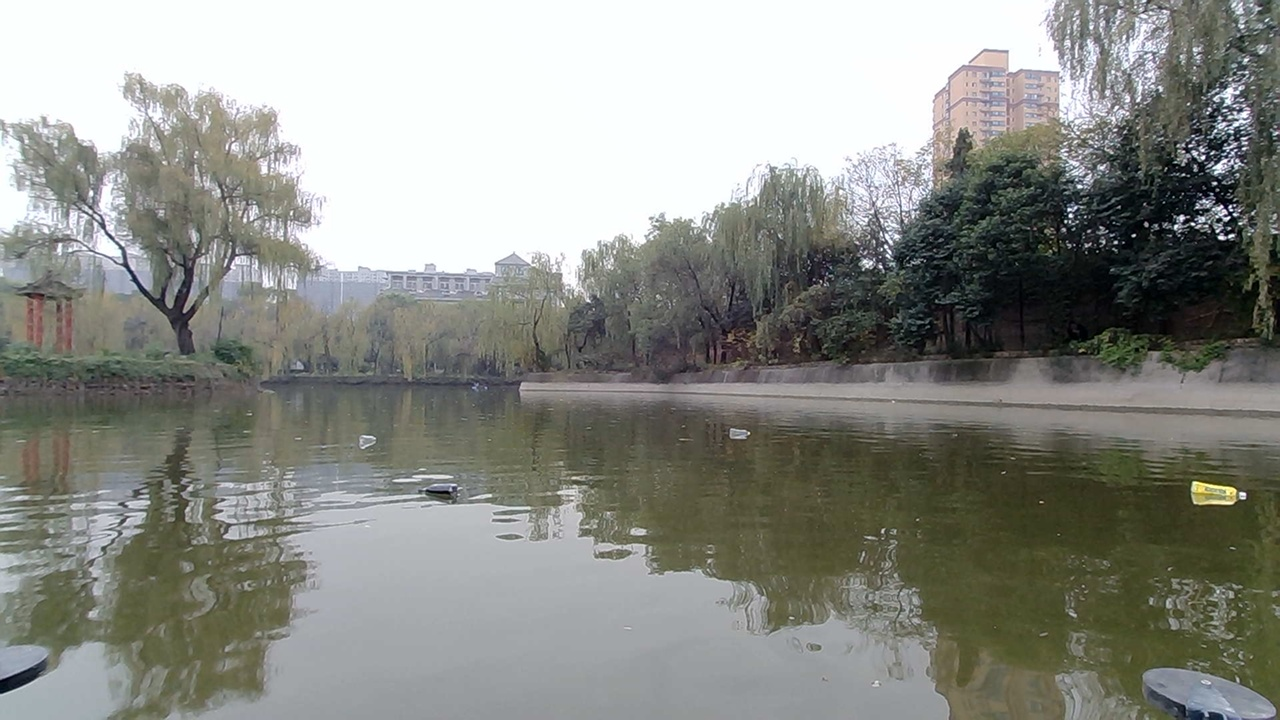bottle: (417, 477, 470, 513), (1188, 474, 1237, 511), (716, 412, 763, 446), (359, 428, 397, 463)
